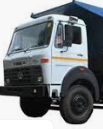truck: (1, 1, 103, 127)
